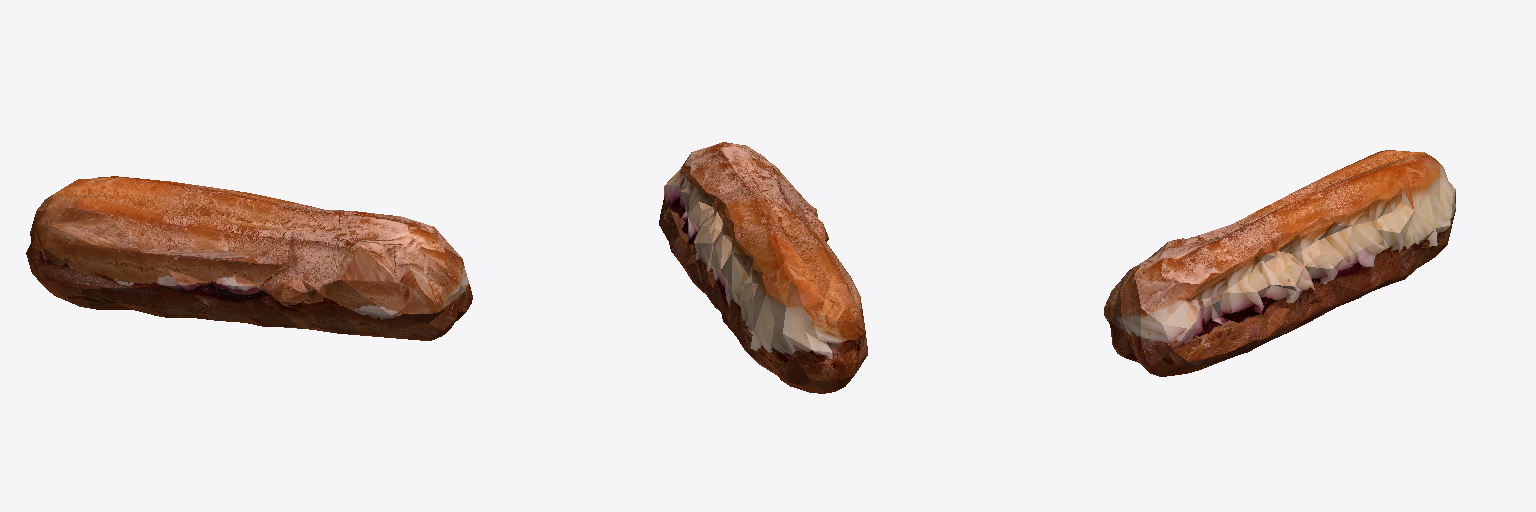
The picture shows the model from 3 angles: view 1: azimuth 30°, elevation 25°; view 2: azimuth 150°, elevation 25°; view 3: azimuth 270°, elevation 25°; orthographic projection.
Size of the model in its own units: 93.98 by 31.52 by 91.11.
Materials: 1 (1 with a texture image).